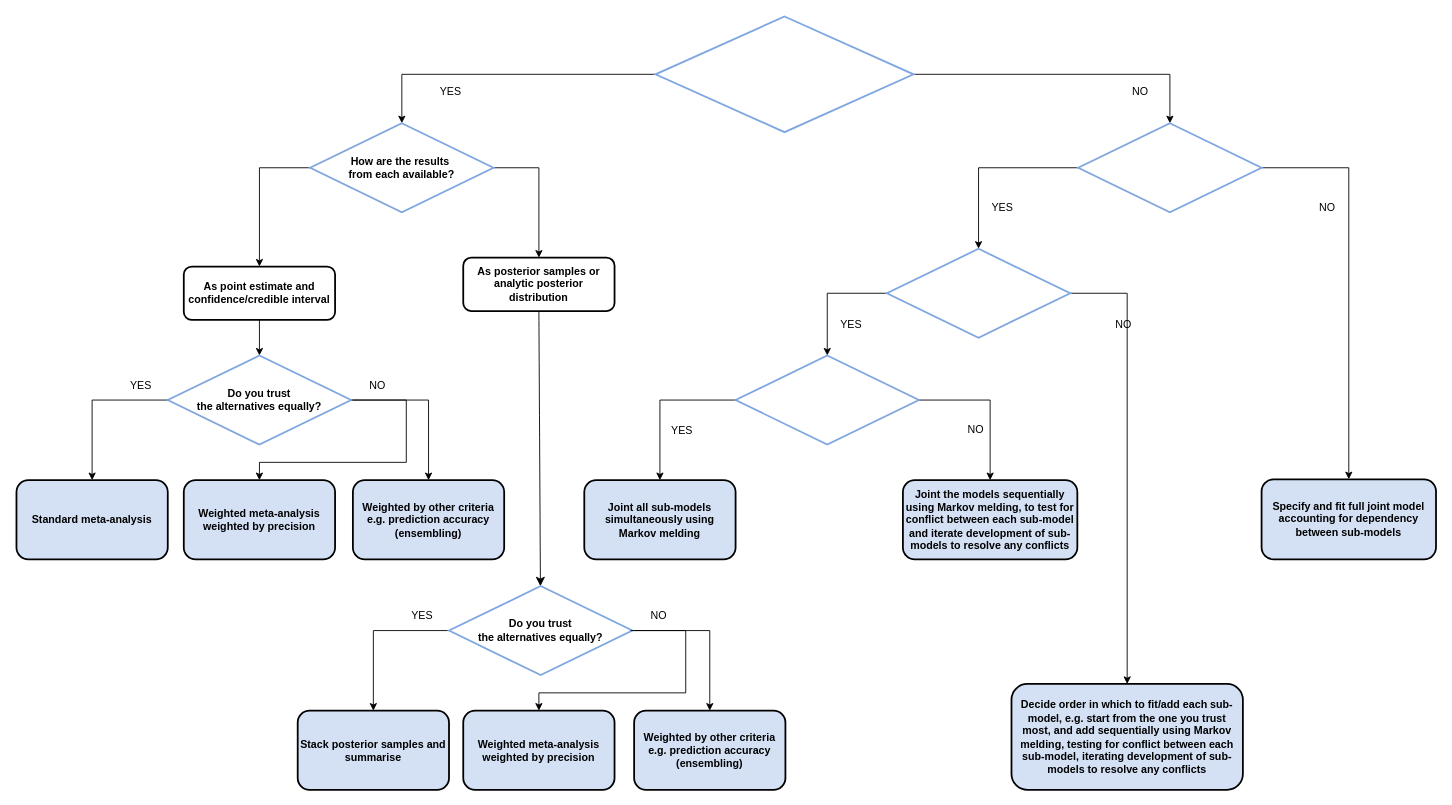
Image size: 1452x805. Some labels were removed from this diagram. Each missing label, with the centre of its shape:
"Are you already convinced that all sub-models give consistent results?" goes at point 826,399.
"Are you combining alternative/competing models from different groups?" goes at point 784,74.
"Are your sub-models independent conditional on their common parameters?" goes at point 1169,167.
"Do you already have posterior samples from all sub-models?" goes at point 978,292.
